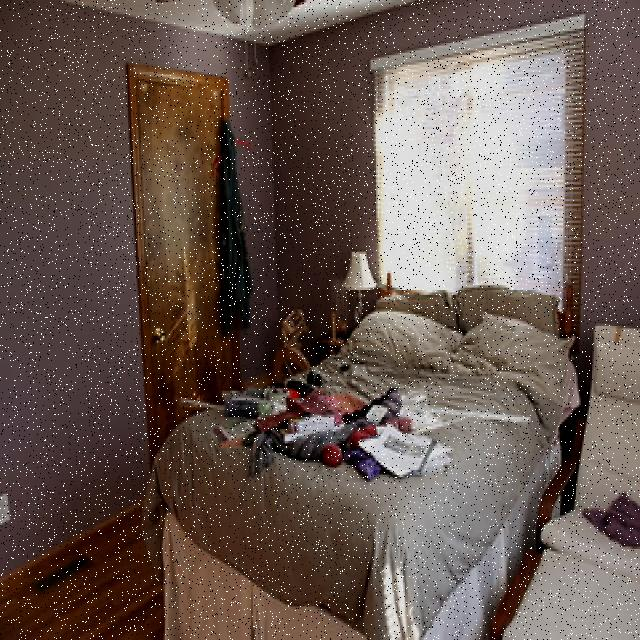bed: (159, 280, 586, 640)
